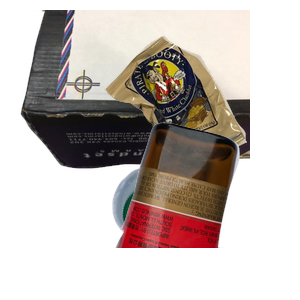cardboard: (18, 10, 258, 171)
glass: (113, 120, 300, 300)
plastic: (110, 164, 300, 300)
trash: (101, 33, 300, 206)
